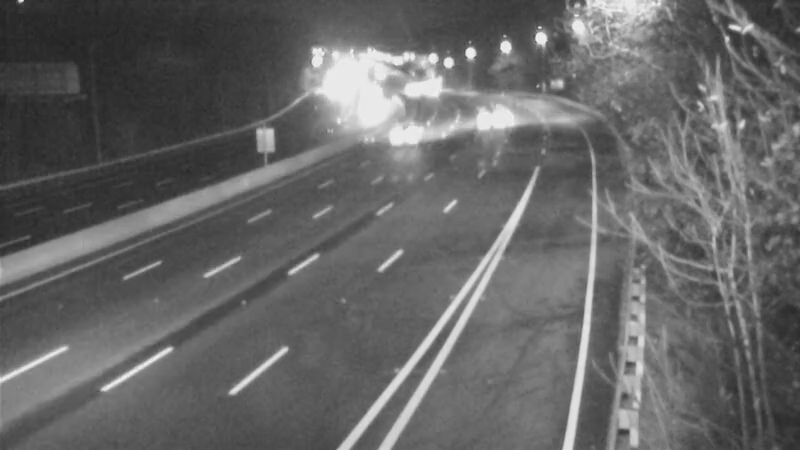vehicle: (402, 66, 452, 116), (462, 89, 512, 139), (379, 104, 429, 154)
